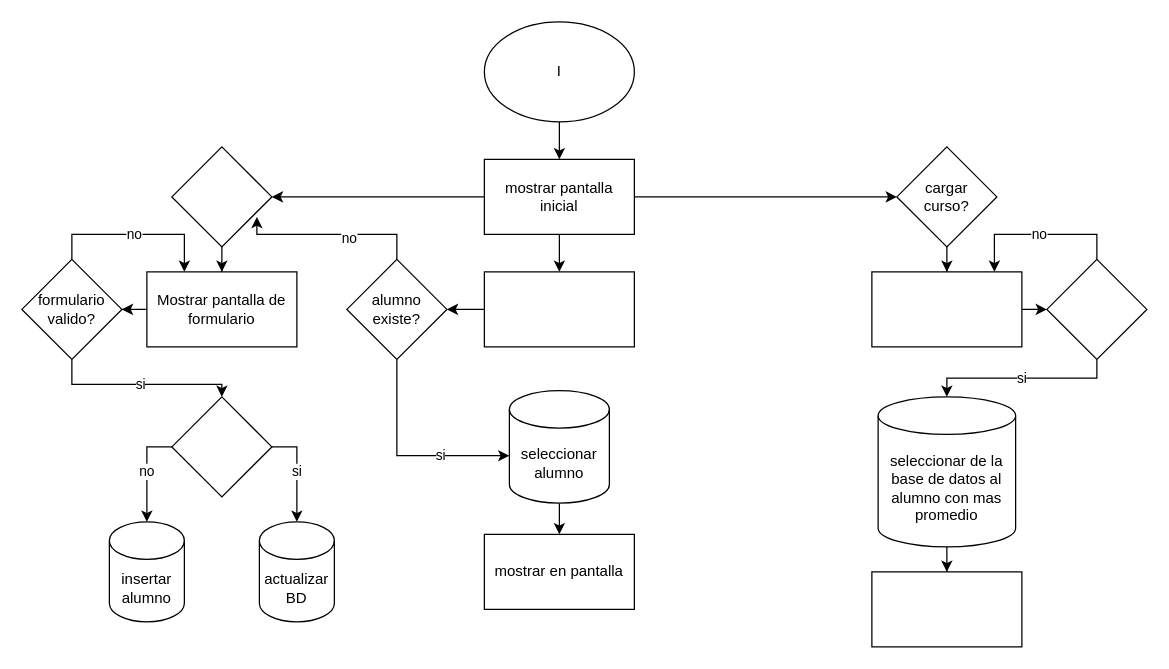
This 1169x669 diagram has some shape labels left out. Here are the shapes that lost their labels. From the top down, the centre of each, then its label:
At (221,196): "cargar alumno?".
At (558,309): "mostrar pantalla de formulario de alumno".
At (946,309): "mostrar pantalla de solicitud de curso".
At (1096,308): "curso existe?".
At (221,446): "alumno ya existe?".
At (946,609): "mostrar alumno".
